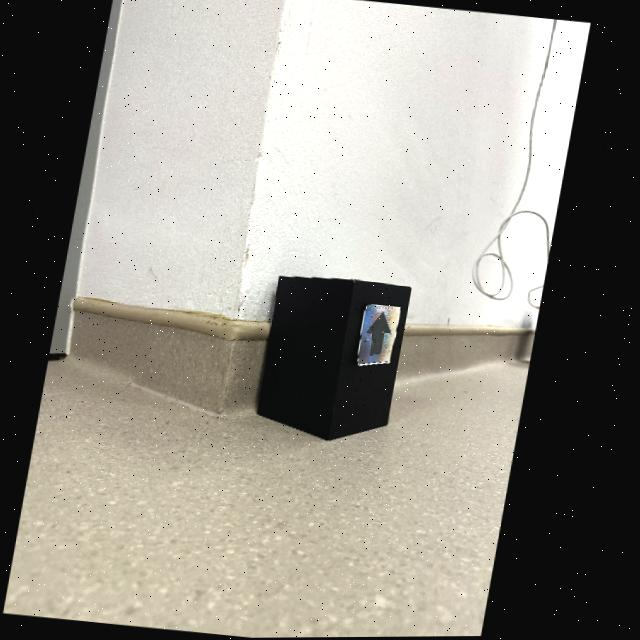UP: (371, 312, 395, 356)
